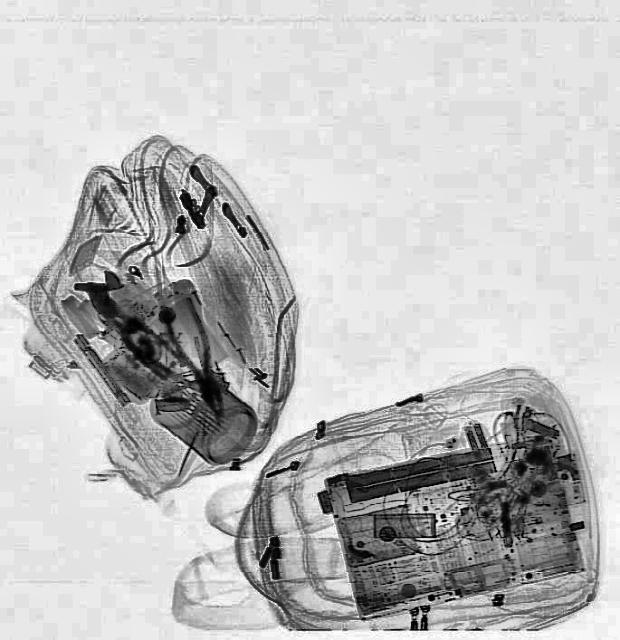Pliers: (152, 294, 242, 424)
